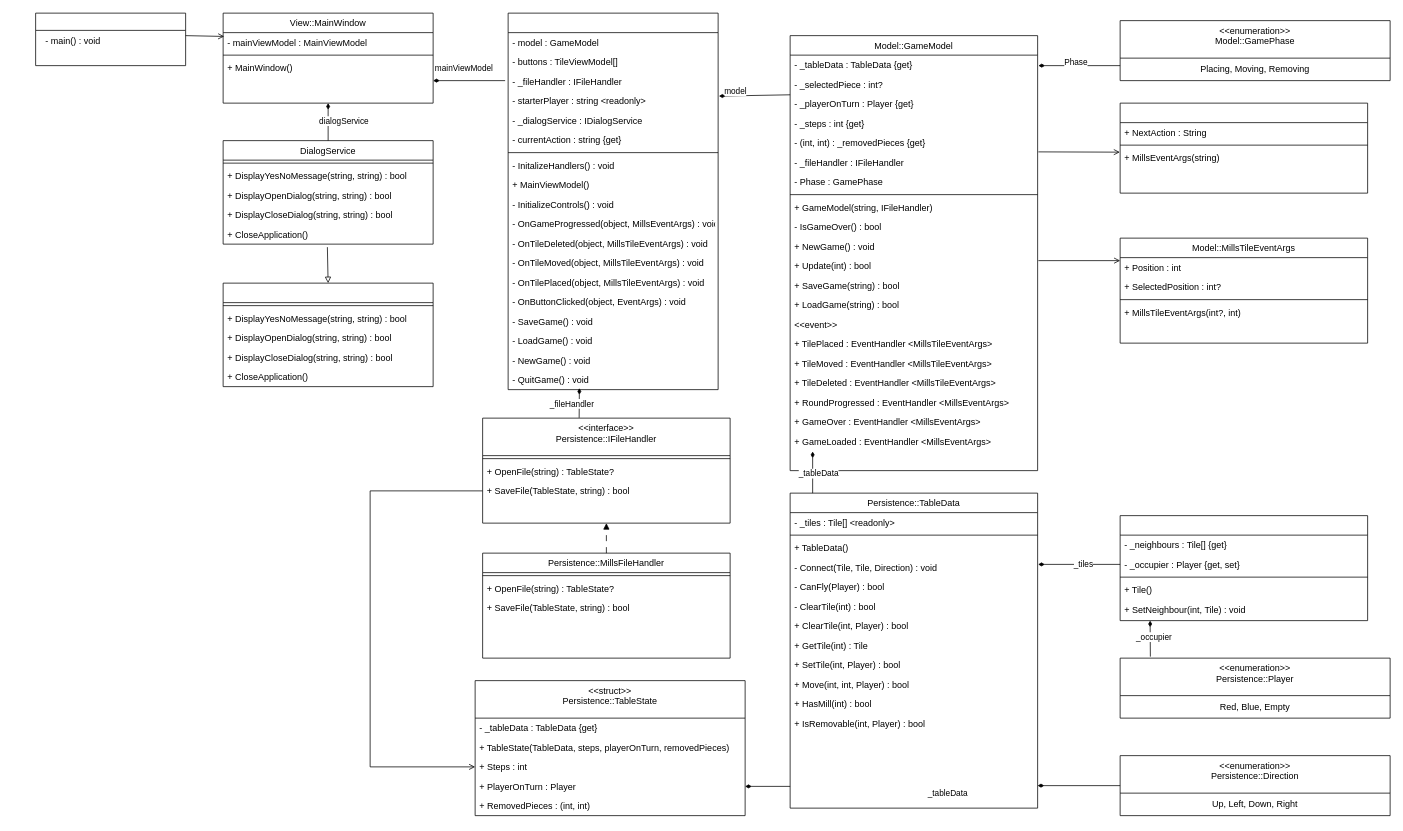
This 1403x831 diagram has some shape labels left out. Here are the shapes that lost their labels. From the top down, the box of each, then its label:
(35, 12, 186, 66): Program
(1119, 102, 1368, 193): Model::MillsEventArgs
(507, 12, 718, 390): ViewModel::MainViewModel
(222, 282, 433, 387): IDialogService
(1119, 515, 1368, 621): Persistence::Tile
